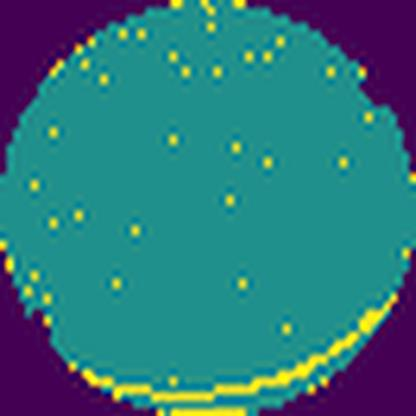Scratch: (68, 292, 404, 407)
